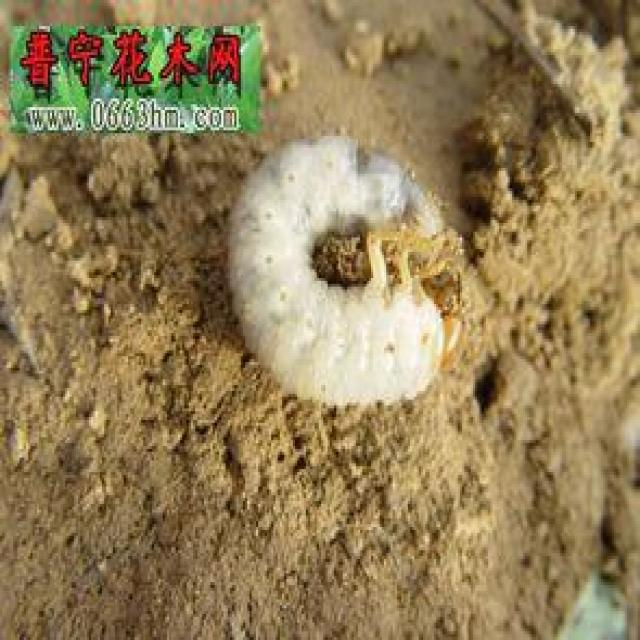Grub-Adult-: (212, 132, 520, 436)
